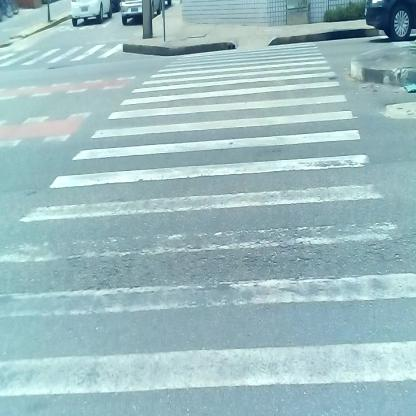crosswalk: (62, 68, 413, 416), (3, 41, 126, 76)
sidewalk: (124, 12, 393, 53)
